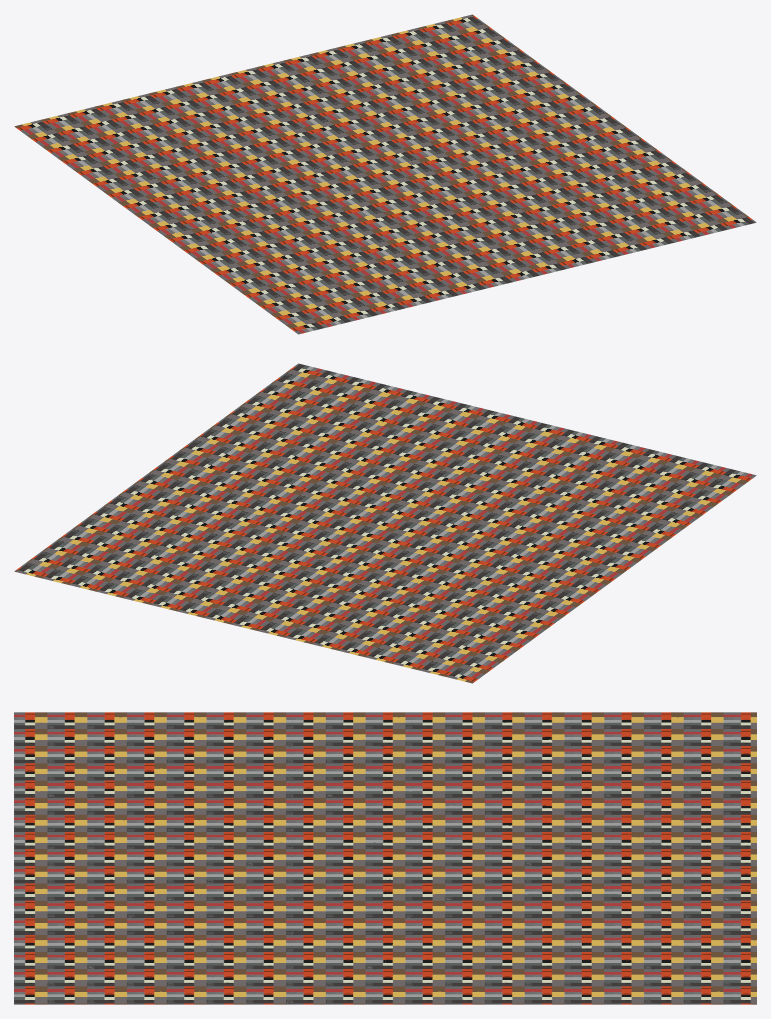
File: PhaseTwoArenaLavaPool.fbx
The picture shows the model from 3 angles, top to bottom: view 1: azimuth 30°, elevation 25°; view 2: azimuth 150°, elevation 25°; view 3: azimuth 270°, elevation 25°; orthographic projection. The views are drawn at different scales.
Visible parts, largest first — view 1: PhaseTwoLavaPool; view 2: PhaseTwoLavaPool; view 3: PhaseTwoLavaPool.
Boxes of the visible parts, left/top/right/bottom form: PhaseTwoLavaPool: left=14, top=14, right=756, bottom=334; PhaseTwoLavaPool: left=14, top=363, right=756, bottom=683; PhaseTwoLavaPool: left=14, top=712, right=756, bottom=1004.
Size of the model in its own units: 118 by 110 by 0.
